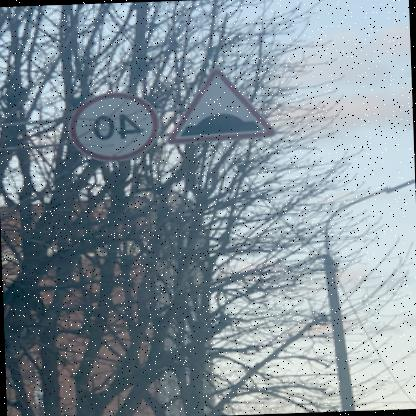speedlimit: (70, 90, 164, 162)
